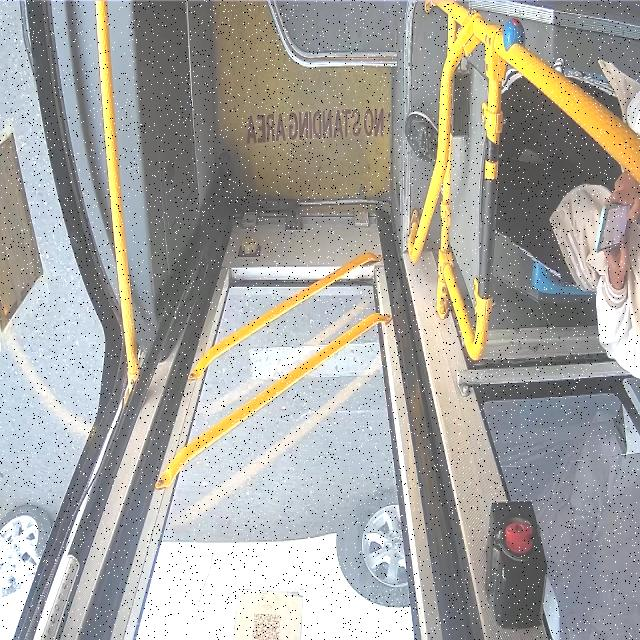close: (108, 209, 444, 638)
